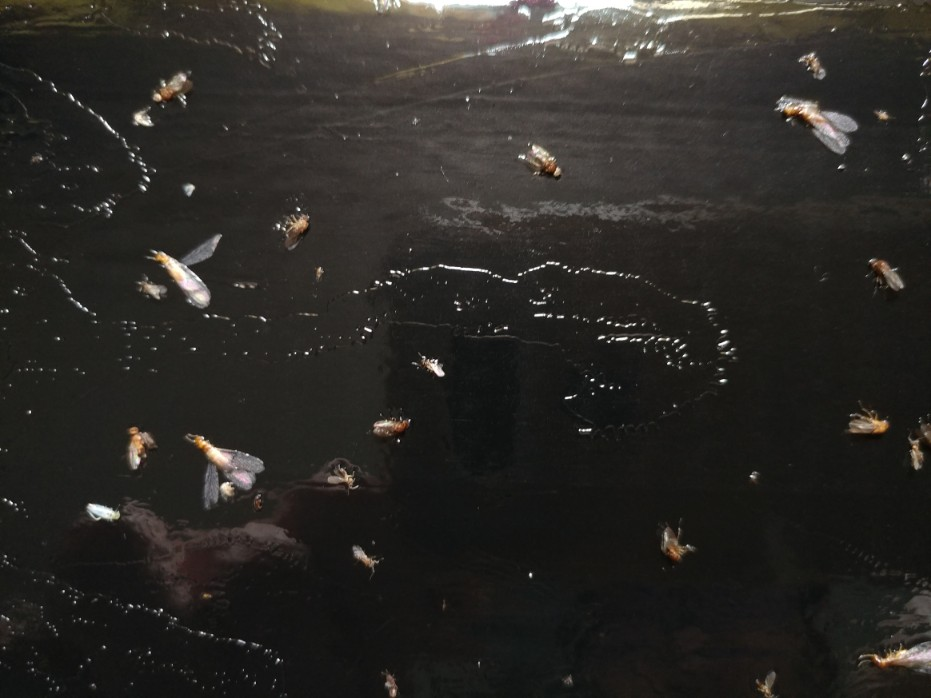termite: (769, 88, 868, 169), (130, 240, 229, 320), (177, 427, 268, 514)
